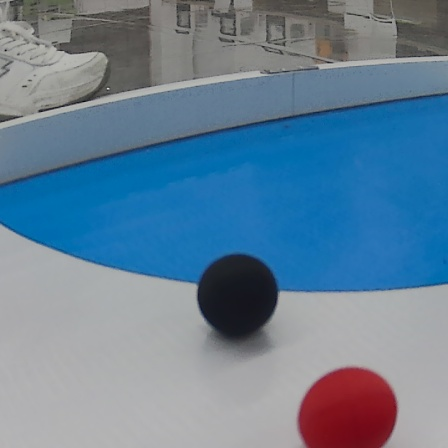black: (198, 256, 281, 338)
blue_base: (0, 90, 448, 293)
red: (296, 365, 398, 446)
